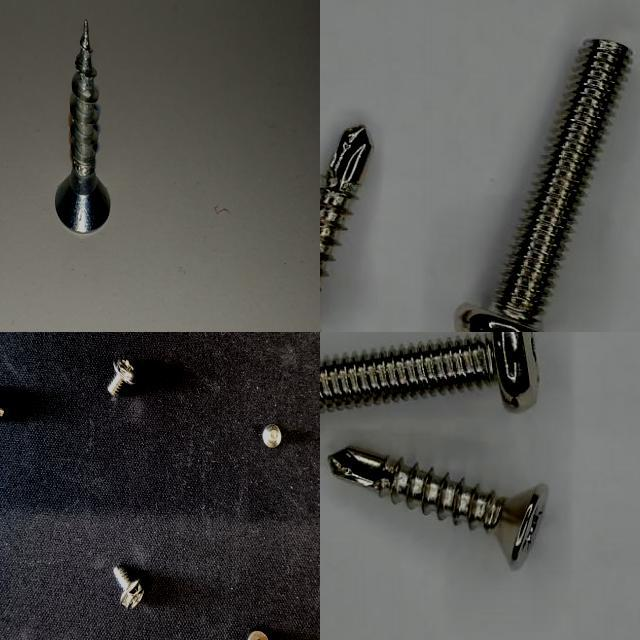Screw: (457, 40, 631, 332), (328, 447, 548, 570), (320, 332, 538, 412), (55, 18, 110, 233), (320, 126, 370, 280), (110, 562, 146, 614), (105, 355, 138, 399), (260, 422, 285, 449), (244, 626, 274, 640)
